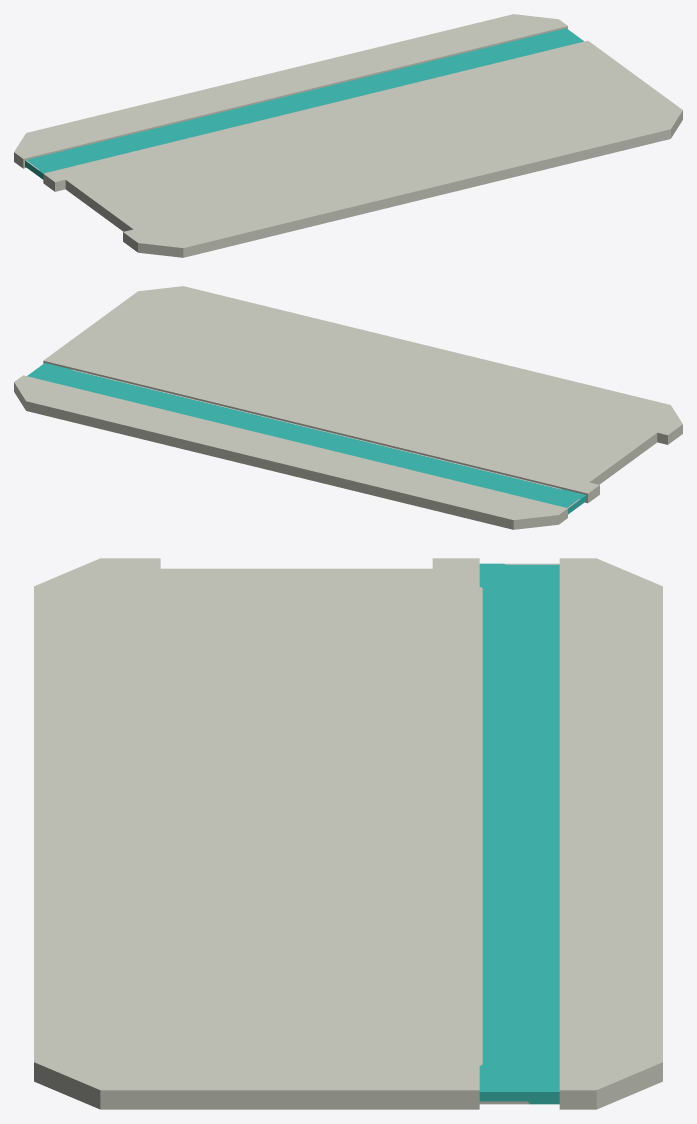
Rendered from keycard.fbx.
3 renders of one model, top to bottom at view 1: azimuth 30°, elevation 25°; view 2: azimuth 150°, elevation 25°; view 3: azimuth 270°, elevation 25°, orthographic. The views are drawn at different scales.
Parts seen in each view (by area): view 1: Keycard; view 2: Keycard; view 3: Keycard.
Part boxes in pixels (x1,y1,x2,y2): Keycard: [14, 14, 682, 257]; Keycard: [14, 286, 682, 529]; Keycard: [34, 558, 662, 1109].
Size of the model in its own units: 40 by 0.6806 by 20.
1 material, 1 textured.
